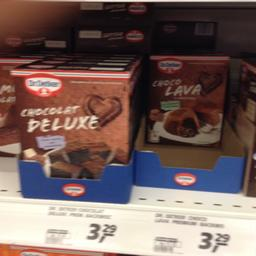cake: (8, 61, 131, 200), (143, 52, 232, 150)
